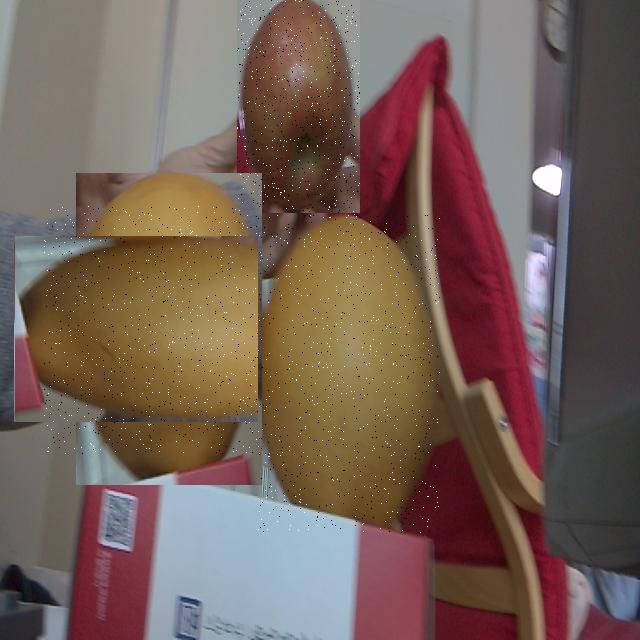apple: (237, 0, 360, 213)
pear: (44, 205, 294, 454), (258, 214, 440, 534)
